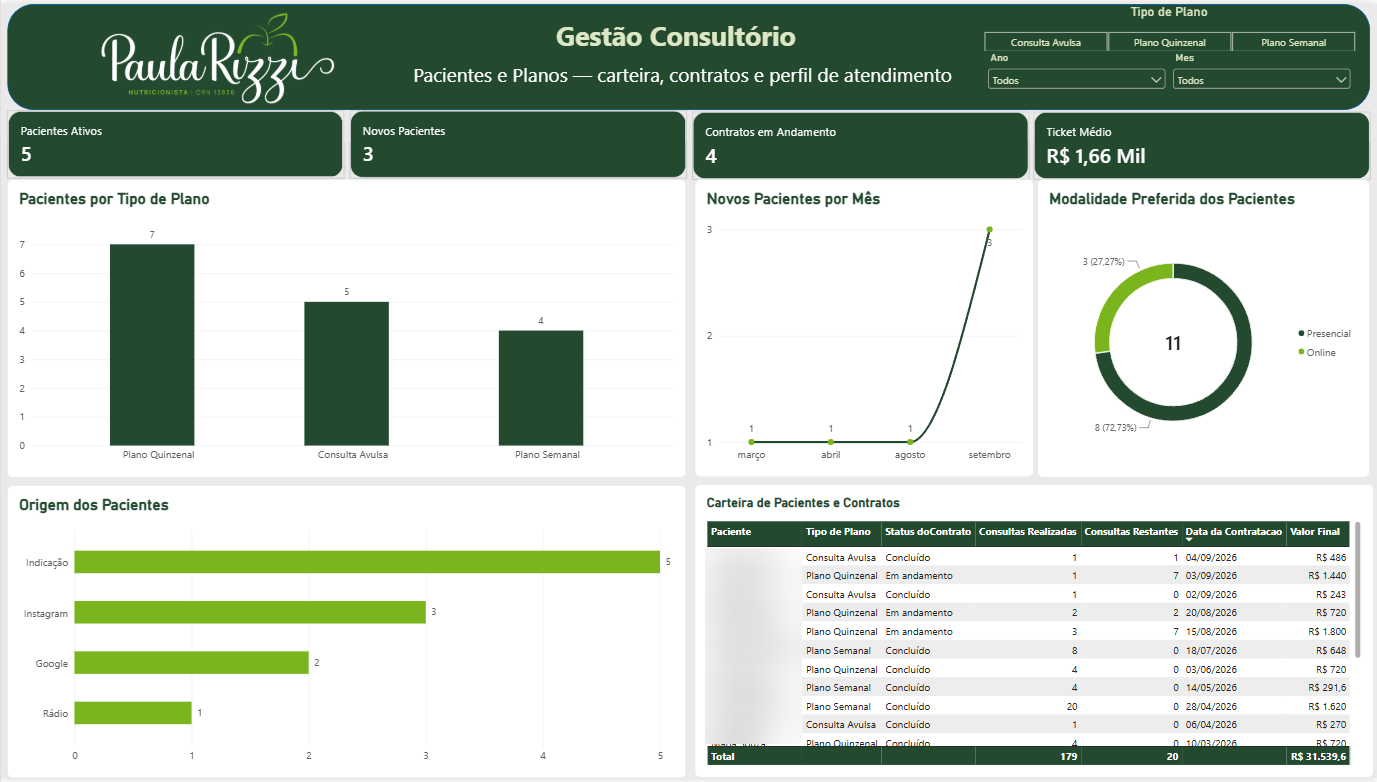

The page's visual inventory and layout, read from the dashboard file:
{"tool":"powerbi","page":{"name":"Pacientes e Planos","canvas":[1920,1080],"ordinal":1},"visuals":[{"type":"shape","box":[9.4,0,1901.9,148.1],"z":0},{"type":"cardVisual","fields":{"Data":["Medidas.Pacientes Ativos"]},"box":[8.7,149,470,95],"z":1000},{"type":"image","box":[88.9,1.6,427.1,148.1],"z":2000},{"type":"cardVisual","fields":{"Data":["Medidas.Novos Pacientes"]},"box":[486.3,149,470,95],"z":3000},{"type":"textbox","box":[774.8,18.7,347.9,51.5],"z":4000},{"type":"cardVisual","fields":{"Data":["Medidas.Contratos em Andamento"]},"box":[963.8,149.4,470,95],"z":5000},{"type":"textbox","box":[575.2,81.1,770.1,43.6],"z":6000},{"type":"cardVisual","fields":{"Data":["Medidas.Ticket Médio"]},"box":[1441.3,149.4,470,95],"z":7000},{"type":"slicer","title":"Ano","fields":{"Values":["Calendario.Ano"]},"box":[1373.4,65.5,257,73.3],"z":8000},{"type":"slicer","fields":{"Values":["Calendario.Mes"]},"box":[1630.6,65.5,257,73.3],"z":9000},{"type":"slicer","title":"Tipo de Plano","fields":{"Values":["Planos_Contratos.Tipo_Plano"]},"box":[1351.6,0,556.5,65.5],"z":10000},{"type":"clusteredColumnChart","title":"Pacientes por Tipo de Plano","fields":{"Category":["Planos_Contratos.Tipo_Plano"],"Y":["Medidas.Pacientes por Plano"]},"box":[9.2,244.2,947.3,416.8],"z":11000},{"type":"lineChart","title":"Novos Pacientes por Mês","fields":{"Category":["Calendario.Mes"],"Y":["Medidas.Novos Pacientes por Mês"]},"box":[967.5,244.2,473,416],"z":12000},{"type":"clusteredBarChart","title":"Origem dos Pacientes","fields":{"Category":["Pacientes.Origem_Paciente"],"Y":["Medidas.Pacientes por Origem"]},"box":[9,671,947,409],"z":13000},{"type":"donutChart","title":"Modalidade Preferida dos Pacientes","fields":{"Category":["Pacientes.Modalidade_Preferida"],"Y":["Medidas.Pacientes por Modalidade"]},"box":[1445.9,244.2,464,416.9],"z":14000},{"type":"tableEx","title":"Carteira de Pacientes e Contratos","fields":{"Values":["Planos_Contratos.Paciente","Planos_Contratos.Tipo_Plano","Planos_Contratos.Status_Contrato","Sum(Planos_Contratos.Consultas_Realizadas)","Sum(Planos_Contratos.Consultas_Restantes)","Planos_Contratos.Data_Contratacao","Sum(Planos_Contratos.Valor_Final)"]},"box":[967.5,670.1,947,409.4],"z":15000}]}

Visuals, with their boxes in screenshot pixels (x1, y1, x2, y2), scaled from the page's 1920x1080 canvas onto the 1377x782 screenshot:
shape: box=[7, 0, 1371, 107]
cardVisual - Medidas.Pacientes Ativos: box=[6, 108, 343, 177]
image: box=[64, 1, 370, 108]
cardVisual - Medidas.Novos Pacientes: box=[349, 108, 686, 177]
textbox: box=[556, 14, 805, 51]
cardVisual - Medidas.Contratos em Andamento: box=[691, 108, 1028, 177]
textbox: box=[413, 59, 965, 90]
cardVisual - Medidas.Ticket Médio: box=[1034, 108, 1371, 177]
"Ano" slicer: box=[985, 47, 1169, 101]
slicer - Calendario.Mes: box=[1169, 47, 1354, 101]
"Tipo de Plano" slicer: box=[969, 0, 1368, 47]
"Pacientes por Tipo de Plano" clusteredColumnChart: box=[7, 177, 686, 479]
"Novos Pacientes por Mês" lineChart: box=[694, 177, 1033, 478]
"Origem dos Pacientes" clusteredBarChart: box=[6, 486, 686, 781]
"Modalidade Preferida dos Pacientes" donutChart: box=[1037, 177, 1370, 479]
"Carteira de Pacientes e Contratos" tableEx: box=[694, 485, 1373, 781]
